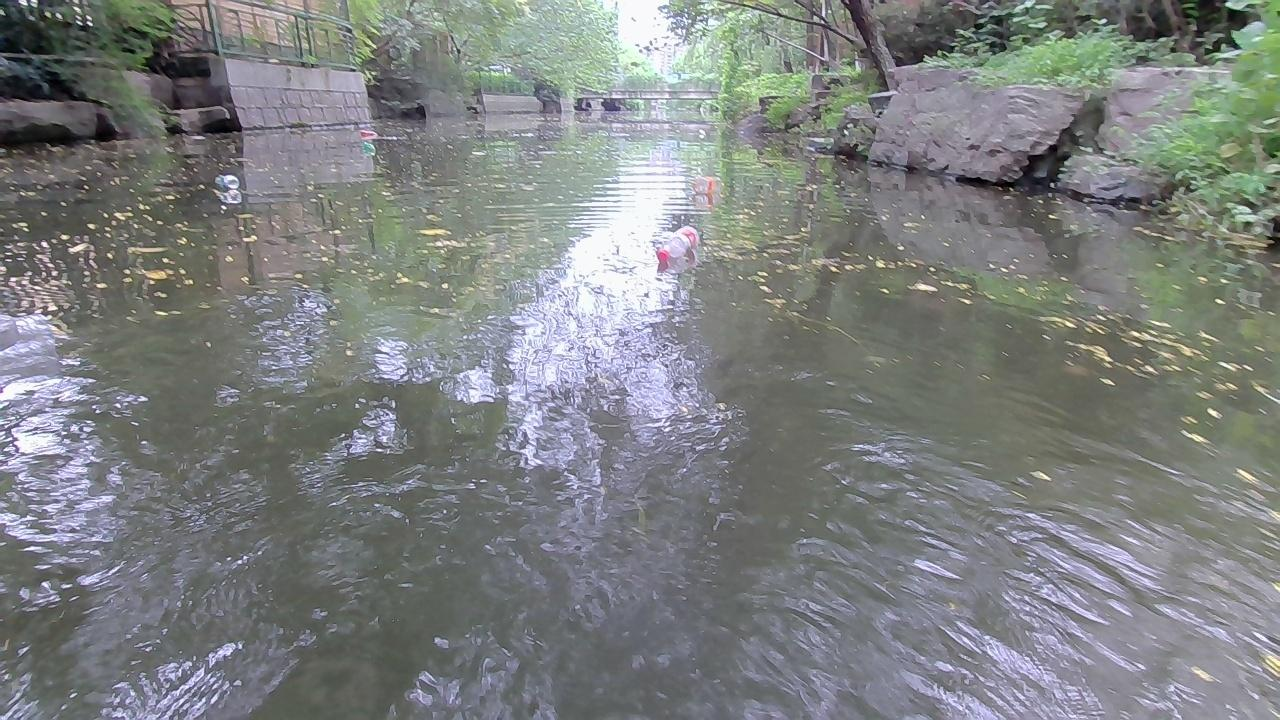bottle: (653, 227, 703, 261), (694, 173, 726, 191), (216, 172, 239, 186), (362, 141, 376, 156), (359, 128, 381, 136), (695, 127, 704, 135)
